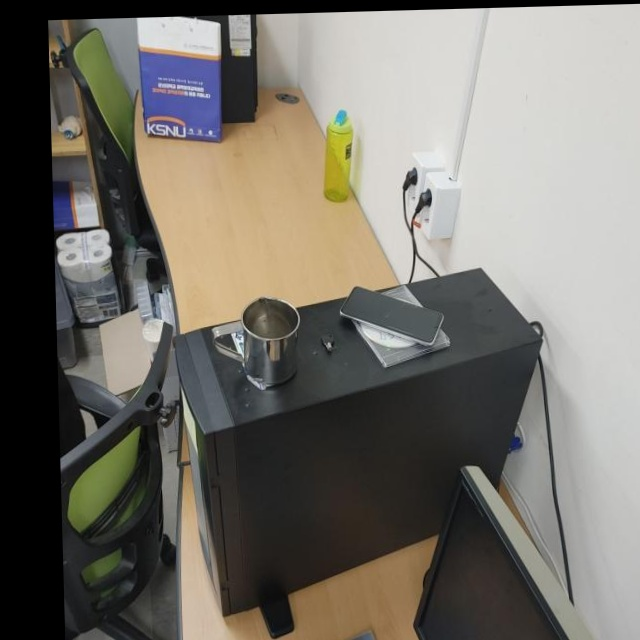cup: (209, 292, 304, 394)
phone: (334, 279, 446, 349)
